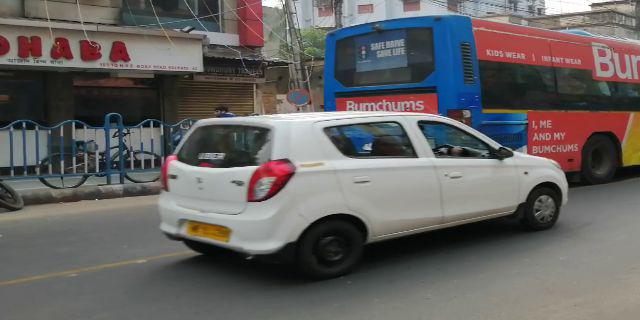Bus: (321, 14, 640, 181)
Car: (158, 108, 574, 260)
